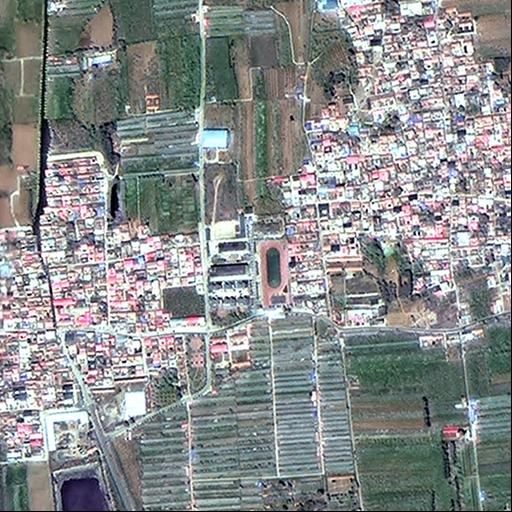school: (205, 216, 290, 311)
